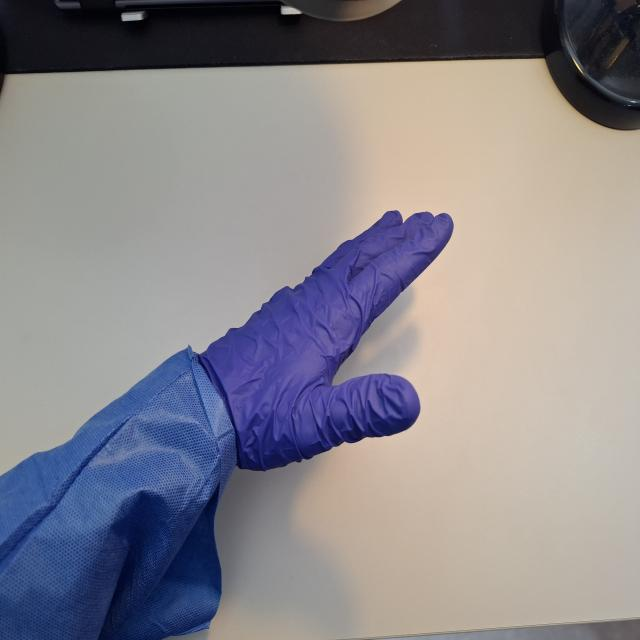glove_on: (190, 207, 456, 475)
